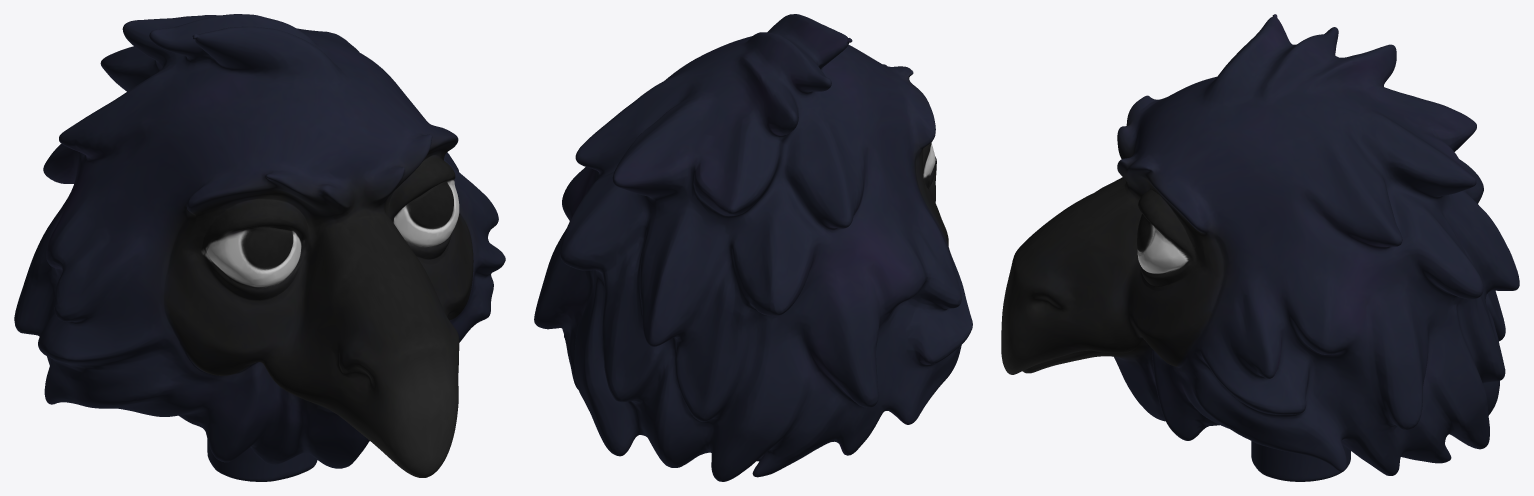
Rendered from Tete_Corbeau.glb.
The picture shows the model from 3 angles, left to right: view 1: azimuth 30°, elevation 25°; view 2: azimuth 150°, elevation 25°; view 3: azimuth 270°, elevation 25°; orthographic projection. The views are drawn at different scales.
Parts seen in each view (by area): view 1: Tete_Corbeau; view 2: Tete_Corbeau; view 3: Tete_Corbeau.
Part boxes in pixels (x1,y1,x2,y2): Tete_Corbeau: (14,14,505,481); Tete_Corbeau: (534,14,972,481); Tete_Corbeau: (1001,14,1519,481).
Bounding box in the file's own units: 5.42 × 5.44 × 6.17.
